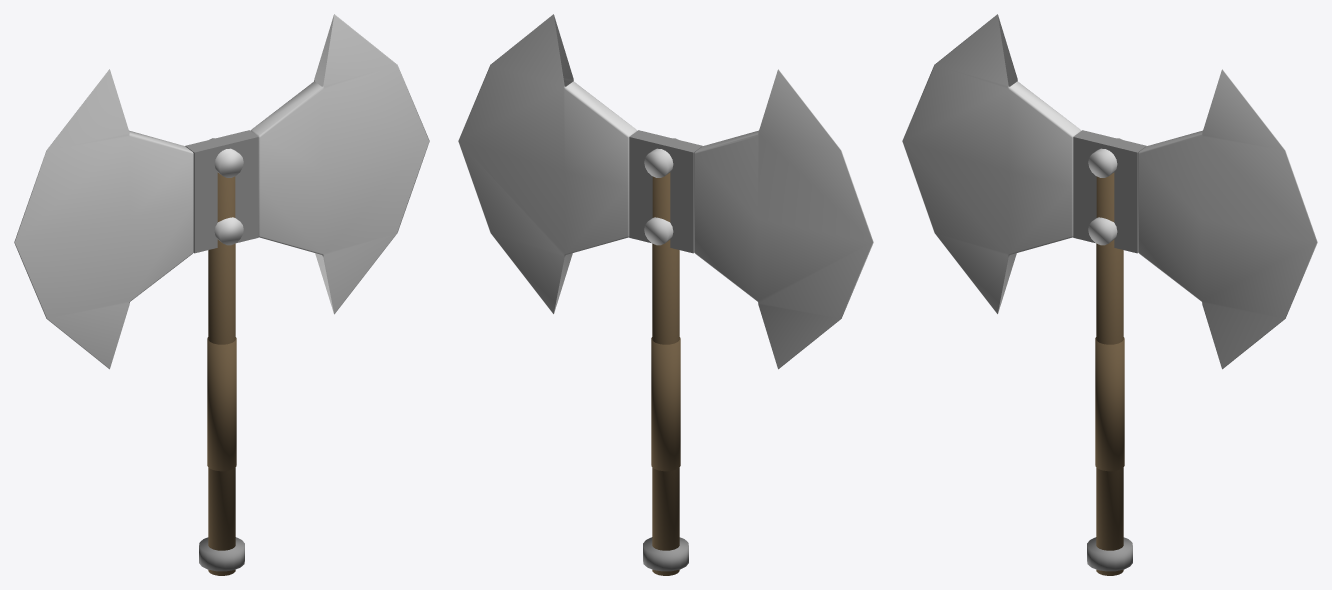
The model's file is axe2.glb.
3 views of the same model, side by side, from view 1: azimuth 30°, elevation 25°; view 2: azimuth 150°, elevation 25°; view 3: azimuth 330°, elevation 25° (orthographic).
Parts seen in each view (by area): view 1: Blade_L, Blade_R, Handle, CenterBlock, Wrap, PommelBase, Ring_2.4, Ring_1.6; view 2: Blade_L, Blade_R, Handle, CenterBlock, Wrap, PommelBase, Ring_2.4, Ring_1.6; view 3: Blade_R, Blade_L, Handle, CenterBlock, Wrap, PommelBase, Ring_2.4, Ring_1.6.
Part boxes in pixels (x1=…): Blade_L: x1=14, y1=69, x2=193, y2=369; Blade_R: x1=250, y1=14, x2=429, y2=314; Handle: x1=208, y1=172, x2=235, y2=575; CenterBlock: x1=185, y1=130, x2=258, y2=253; Wrap: x1=207, y1=337, x2=236, y2=471; PommelBase: x1=199, y1=537, x2=244, y2=571; Ring_2.4: x1=209, y1=138, x2=243, y2=177; Ring_1.6: x1=214, y1=217, x2=243, y2=245; Blade_L: x1=694, y1=69, x2=873, y2=369; Blade_R: x1=458, y1=14, x2=637, y2=314; Handle: x1=652, y1=172, x2=679, y2=575; CenterBlock: x1=629, y1=130, x2=702, y2=253; Wrap: x1=651, y1=337, x2=680, y2=471; PommelBase: x1=643, y1=537, x2=688, y2=571; Ring_2.4: x1=644, y1=138, x2=678, y2=177; Ring_1.6: x1=644, y1=217, x2=673, y2=245; Blade_R: x1=1138, y1=69, x2=1317, y2=369; Blade_L: x1=902, y1=14, x2=1081, y2=314; Handle: x1=1096, y1=172, x2=1123, y2=575; CenterBlock: x1=1073, y1=130, x2=1146, y2=253; Wrap: x1=1095, y1=337, x2=1124, y2=471; PommelBase: x1=1087, y1=537, x2=1132, y2=571; Ring_2.4: x1=1088, y1=138, x2=1122, y2=177; Ring_1.6: x1=1088, y1=217, x2=1117, y2=245.
Size of the model in its own units: 5.17 by 6.29 by 0.5.
